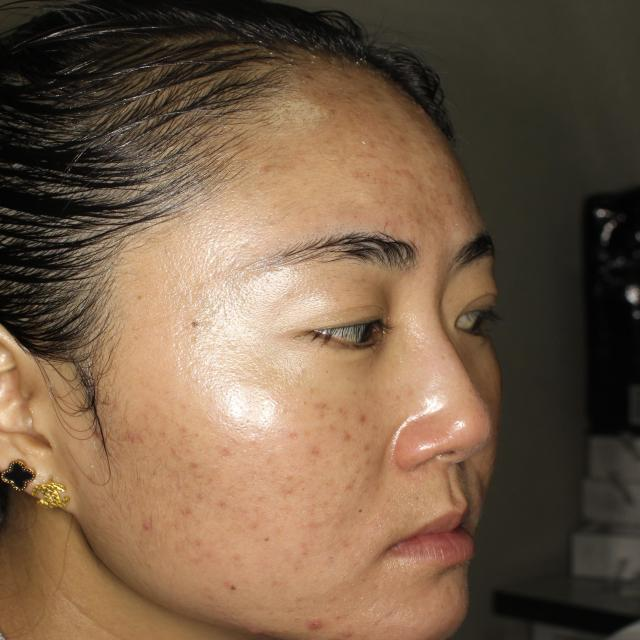pustule: (382, 208, 421, 232), (298, 611, 328, 635), (393, 161, 415, 187), (213, 444, 248, 459), (210, 489, 229, 516), (124, 428, 142, 451), (303, 441, 322, 461), (349, 411, 369, 427)
